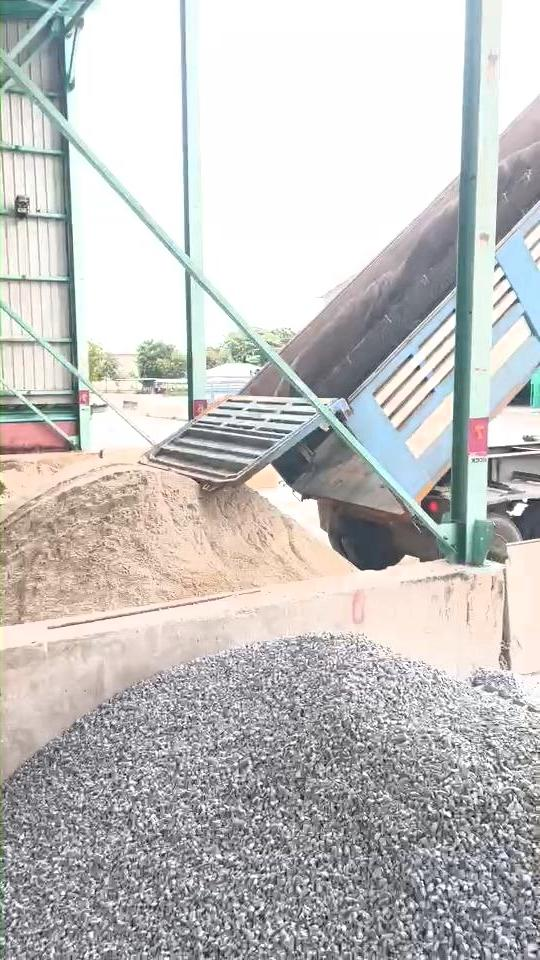gravel: (4, 637, 540, 959), (469, 668, 529, 705)
sand: (3, 465, 353, 623), (3, 452, 96, 500)
